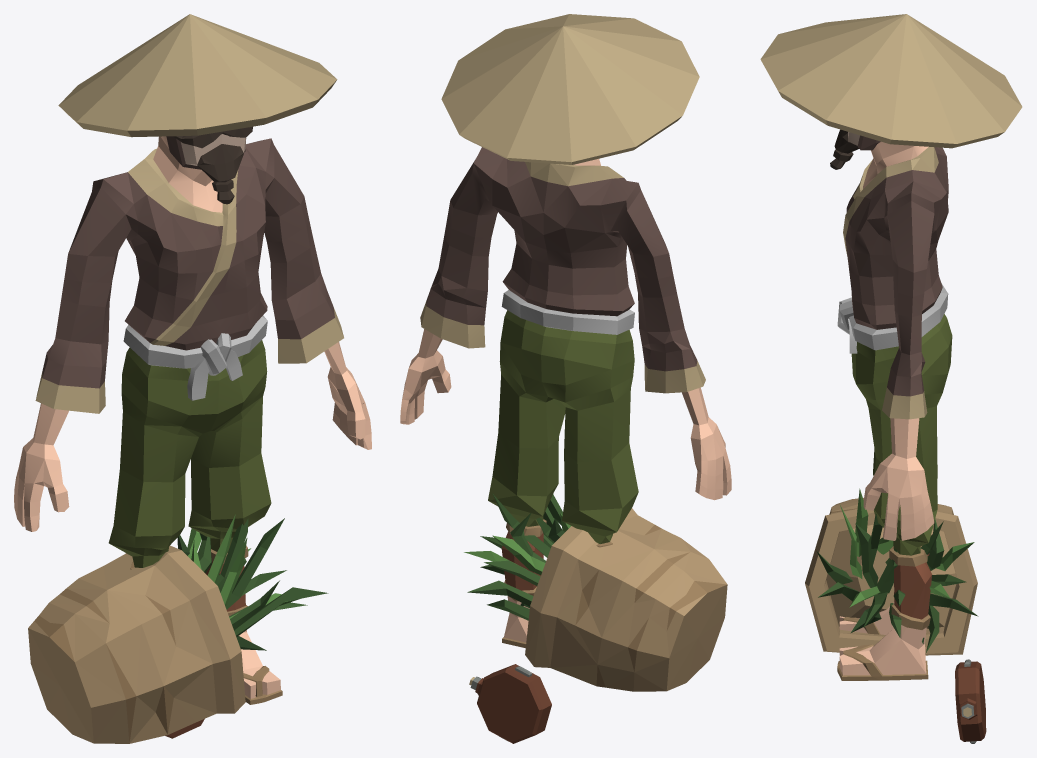
Rendered from Villager.fbx.
3 renders of one model, left to right at view 1: azimuth 30°, elevation 25°; view 2: azimuth 150°, elevation 25°; view 3: azimuth 270°, elevation 25°, orthographic. The views are drawn at different scales.
Visible parts, largest first — view 1: SK_Character_Village_Man, SK_Item_Basket_Rice_01; view 2: SK_Character_Village_Man, SK_Item_Basket_Rice_01, SK_Item_WaterCanteen; view 3: SK_Character_Village_Man, SK_Item_Basket_Rice_01, SK_Item_WaterCanteen.
Part boxes in pixels (x1=…): SK_Character_Village_Man: x1=14, y1=14, x2=371, y2=704; SK_Item_Basket_Rice_01: x1=28, y1=514, x2=328, y2=743; SK_Character_Village_Man: x1=400, y1=14, x2=731, y2=647; SK_Item_Basket_Rice_01: x1=464, y1=493, x2=727, y2=691; SK_Item_WaterCanteen: x1=469, y1=664, x2=551, y2=743; SK_Character_Village_Man: x1=760, y1=14, x2=1022, y2=680; SK_Item_Basket_Rice_01: x1=805, y1=488, x2=978, y2=655; SK_Item_WaterCanteen: x1=955, y1=659, x2=986, y2=743.
Bounding box in the file's own units: 100 × 210 × 69.5.
